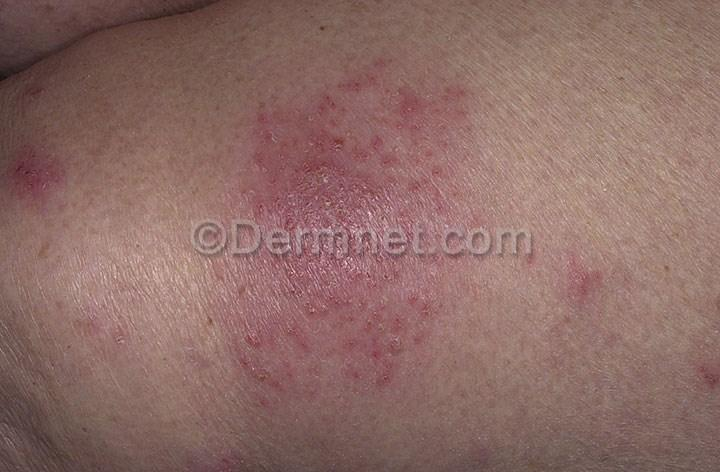Eczema: (246, 55, 464, 228), (231, 261, 434, 445), (57, 276, 228, 399), (0, 102, 135, 237), (544, 248, 638, 334), (687, 343, 720, 429)
